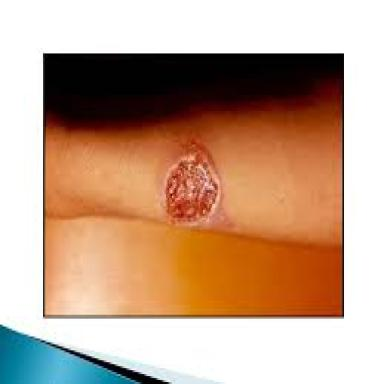Leishmanios: (163, 139, 221, 228)
